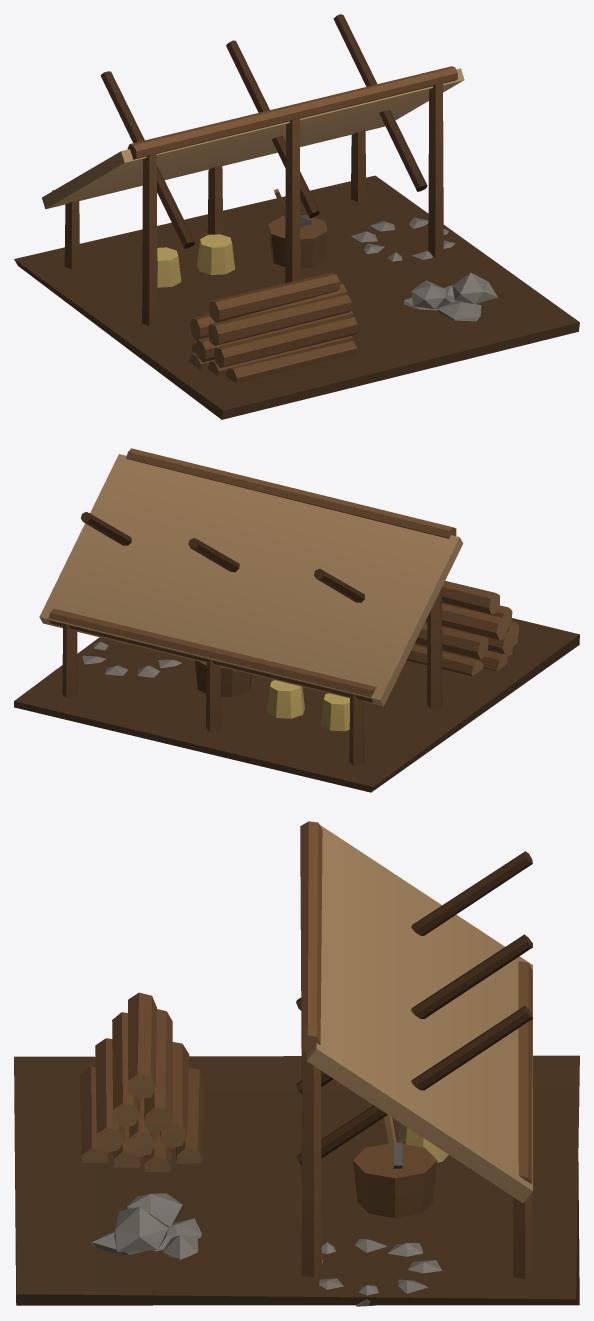
Rendered from camp_s2.glb.
3 renders of one model, top to bottom at view 1: azimuth 30°, elevation 25°; view 2: azimuth 150°, elevation 25°; view 3: azimuth 270°, elevation 25°, orthographic. The views are drawn at different scales.
Visible parts, largest first — view 1: camp_s2; view 2: camp_s2; view 3: camp_s2.
Boxes of the visible parts, <box> form: camp_s2: <box>14,14,579,419</box>; camp_s2: <box>14,448,579,792</box>; camp_s2: <box>14,821,579,1306</box>.
Size of the model in its own units: 2.01 by 1.04 by 2.01.
